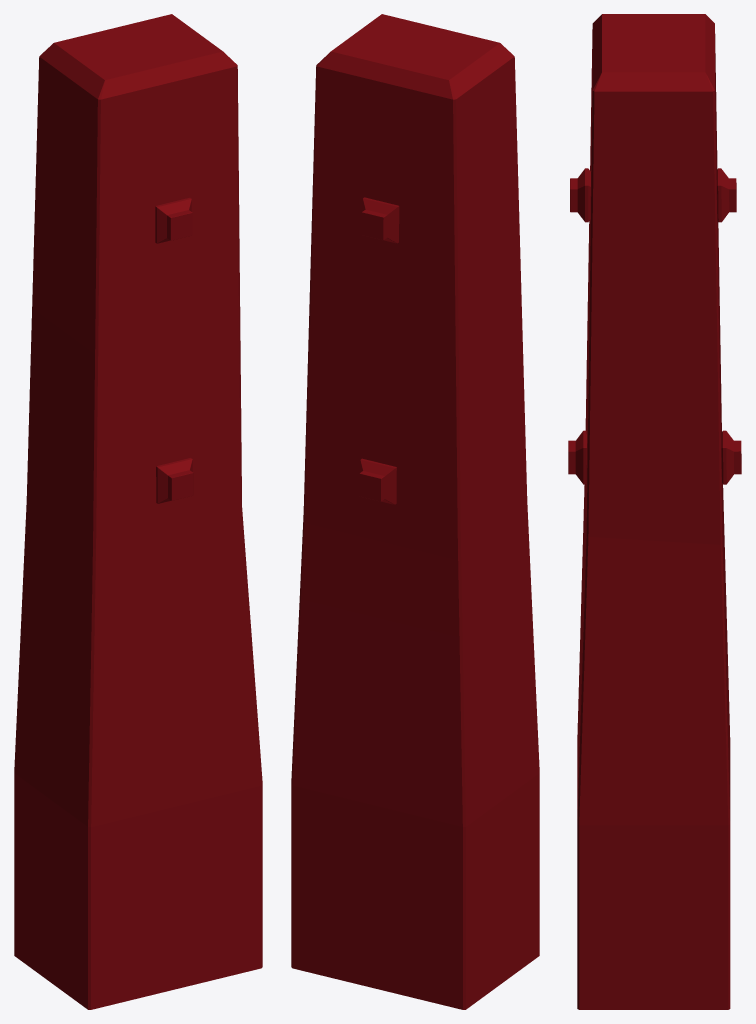
The model's file is SM_MH_01_Wood_GuardRail_02_Pillar_01.fbx.
3 views of the same model, side by side, from view 1: azimuth 30°, elevation 25°; view 2: azimuth 150°, elevation 25°; view 3: azimuth 270°, elevation 25° (orthographic).
Visible parts, largest first — view 1: SM_MH_01_Wood_GuardRail_02_Pillar_01_LOD0; view 2: SM_MH_01_Wood_GuardRail_02_Pillar_01_LOD0; view 3: SM_MH_01_Wood_GuardRail_02_Pillar_01_LOD0.
Boxes of the visible parts, bbox=[...] form: SM_MH_01_Wood_GuardRail_02_Pillar_01_LOD0: bbox=[14, 14, 262, 1009]; SM_MH_01_Wood_GuardRail_02_Pillar_01_LOD0: bbox=[291, 14, 539, 1009]; SM_MH_01_Wood_GuardRail_02_Pillar_01_LOD0: bbox=[568, 14, 741, 1009].
Size of what is drawn, in the model's own units: 20 by 100 by 17.
